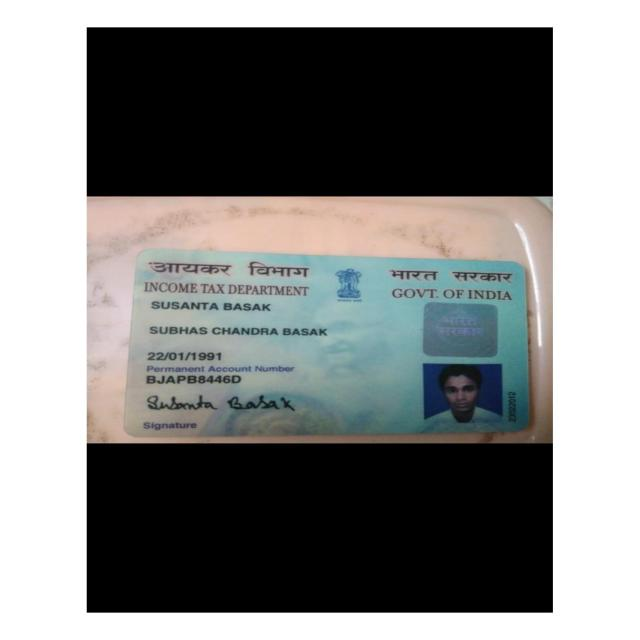pan_card: (129, 248, 527, 437)
